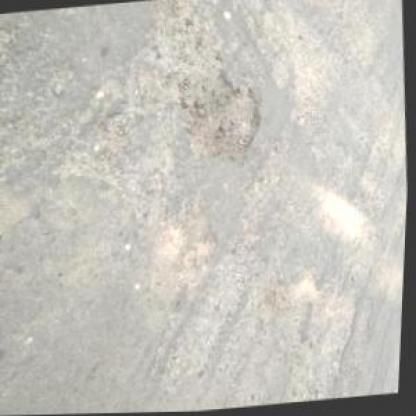pothole: (183, 69, 269, 170), (52, 111, 138, 191), (183, 232, 223, 272)
